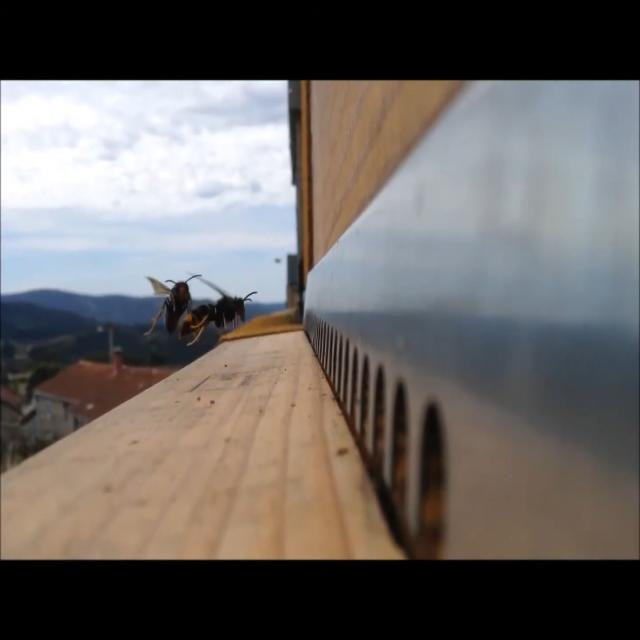Hornets: (184, 270, 258, 349), (142, 270, 202, 337)
